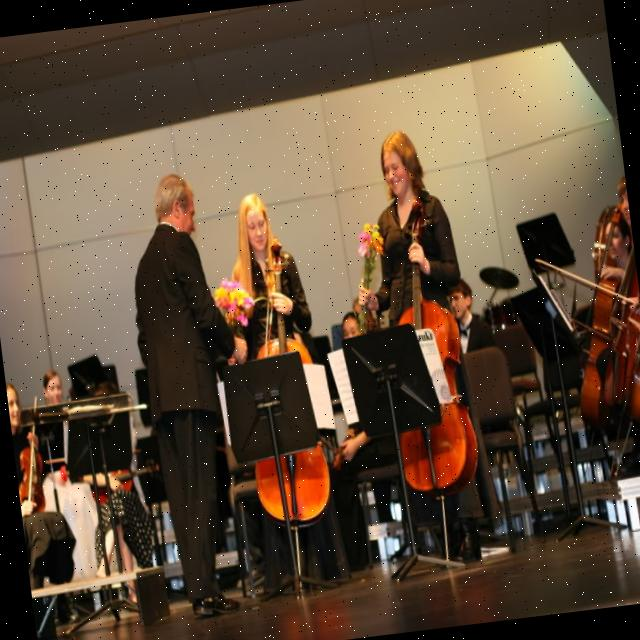cello: (360, 193, 482, 500), (226, 234, 334, 529), (554, 200, 640, 431)
violin: (8, 403, 52, 518)
